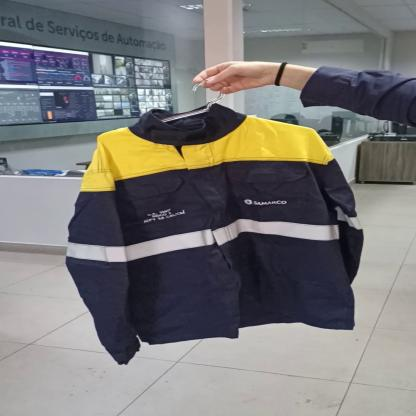C_eletrica: (65, 105, 371, 354)
